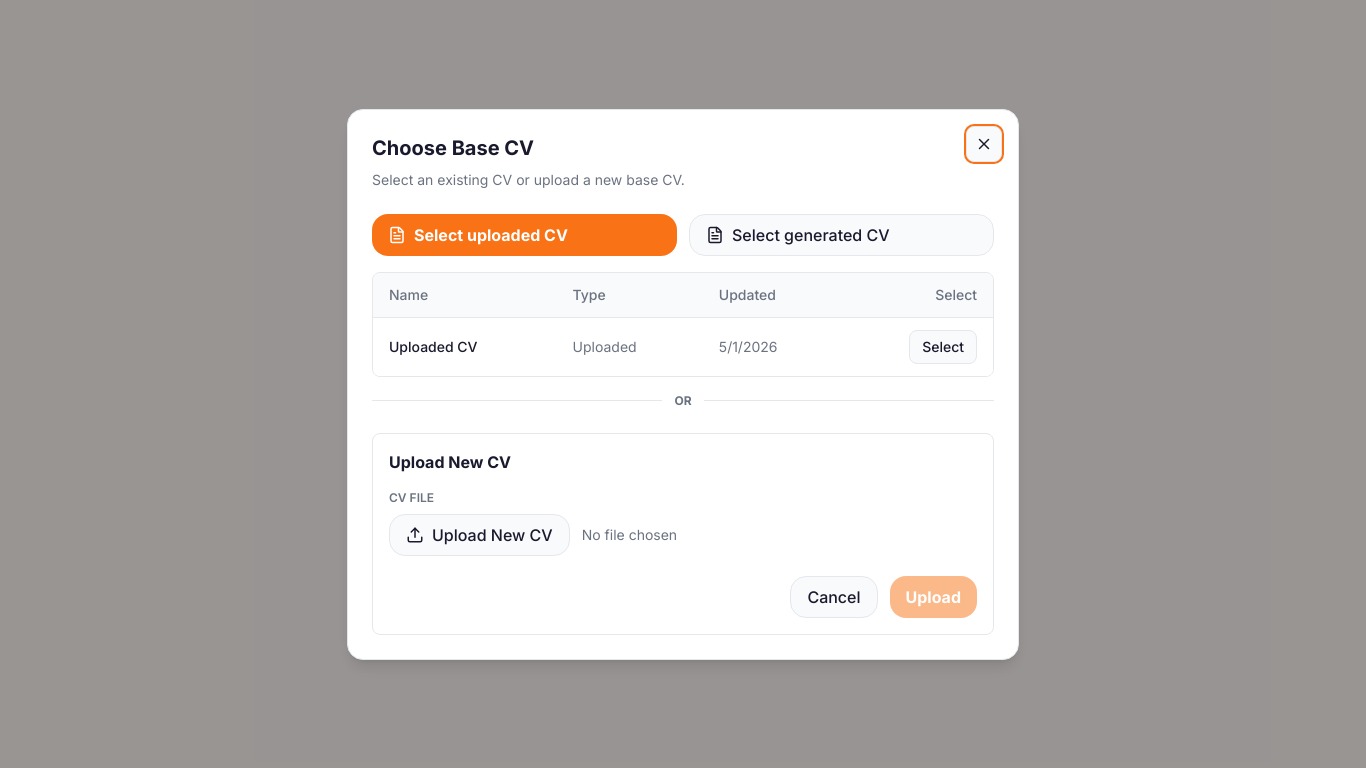
FE-UI-011 — choice mode › selects the first generated CV when Select generated CV is clicked
Check: the text "Uploaded CV" is shown, box [373, 317, 556, 376]
Click the button "Select generated CV" at [842, 234], box [689, 214, 994, 256]
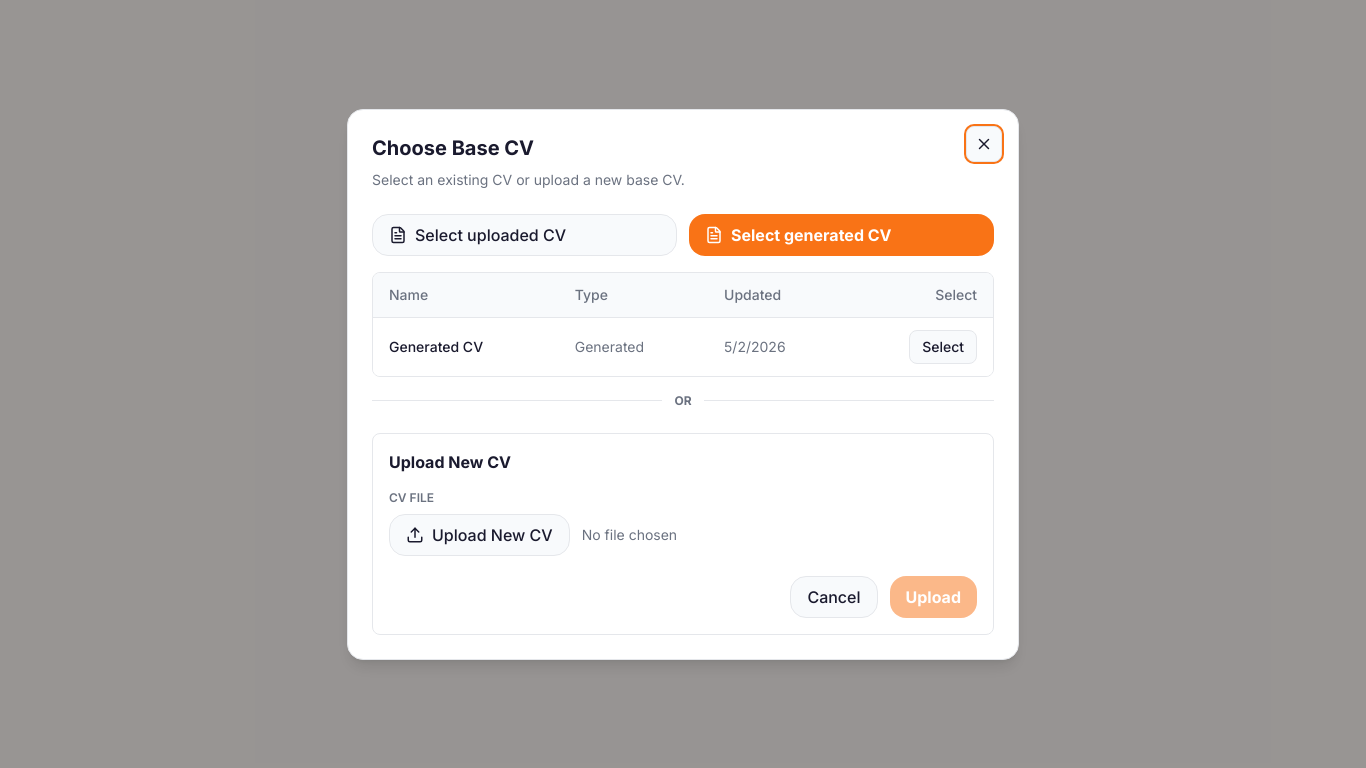
Check: the text "Generated CV" is shown, box [373, 317, 559, 376]
